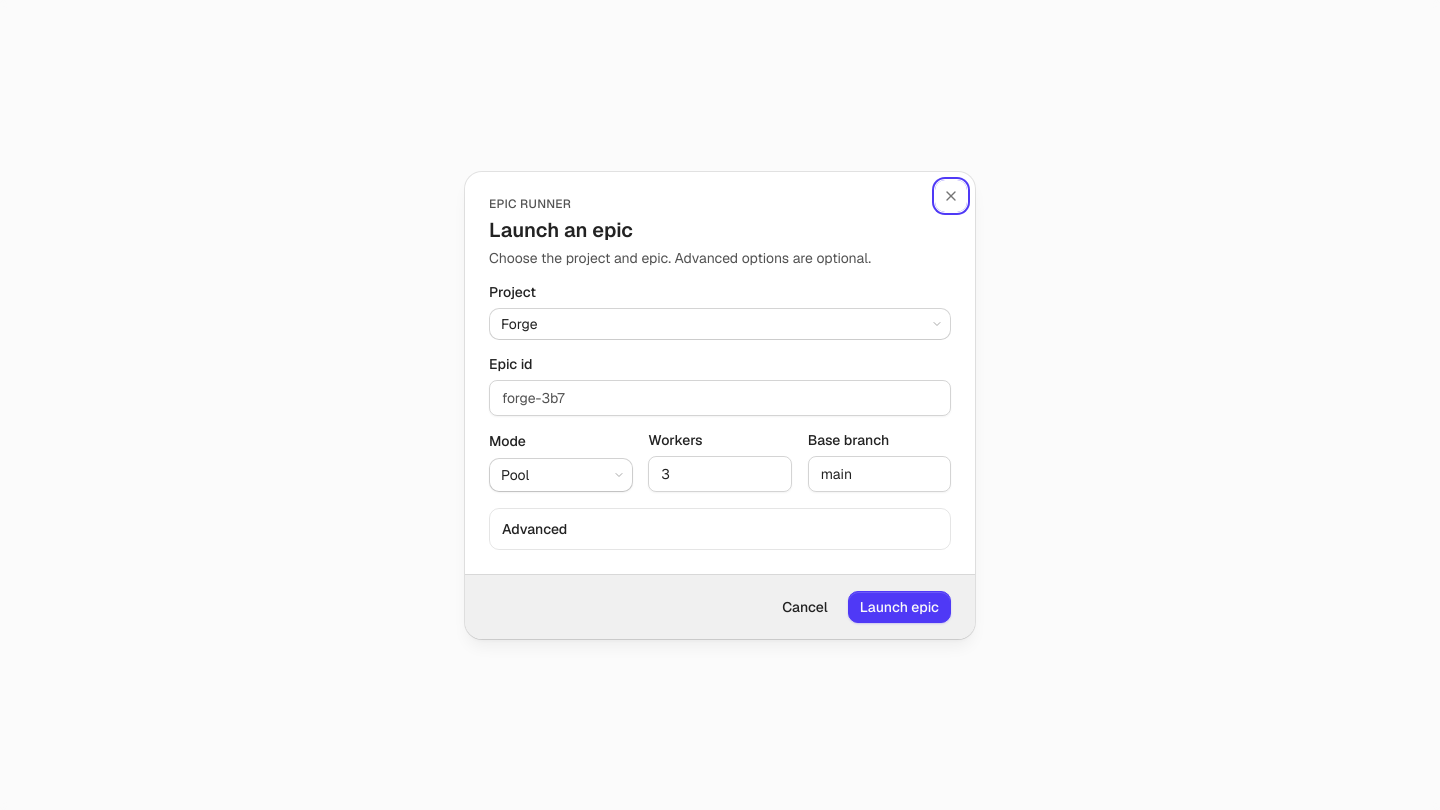
EpicLaunchDialog › marks invalid fields and reports launch failures
expect the dropdown named "Project" is shown: met, box [489,308,951,340]
Click the button "Launch epic" at (899, 606), box [848,590,951,622]
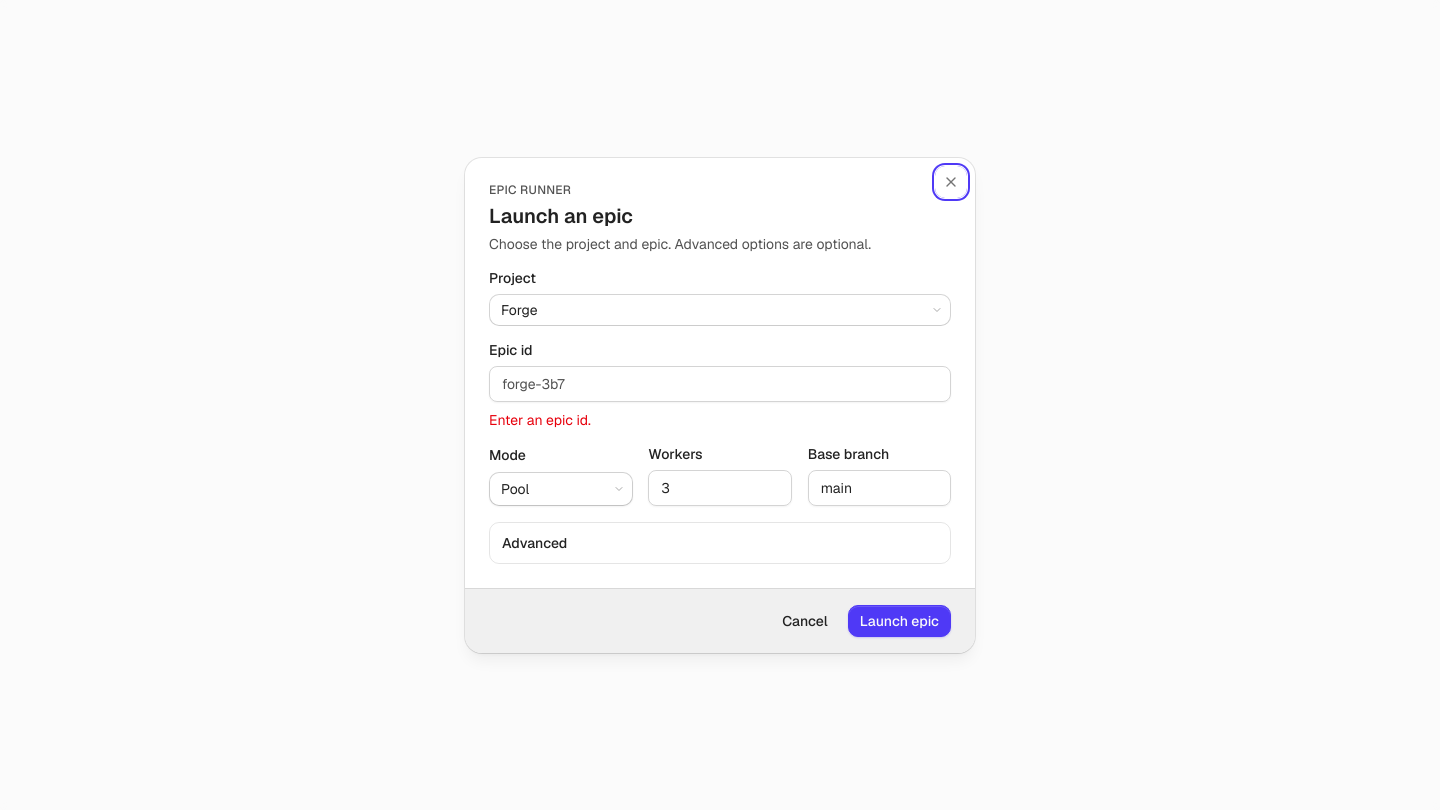
expect the field with placeholder "forge-3b7" is marked as invalid: met
Type "forge-epic" into the field with placeholder "forge-3b7" at (720, 384), box [489,366,951,402]
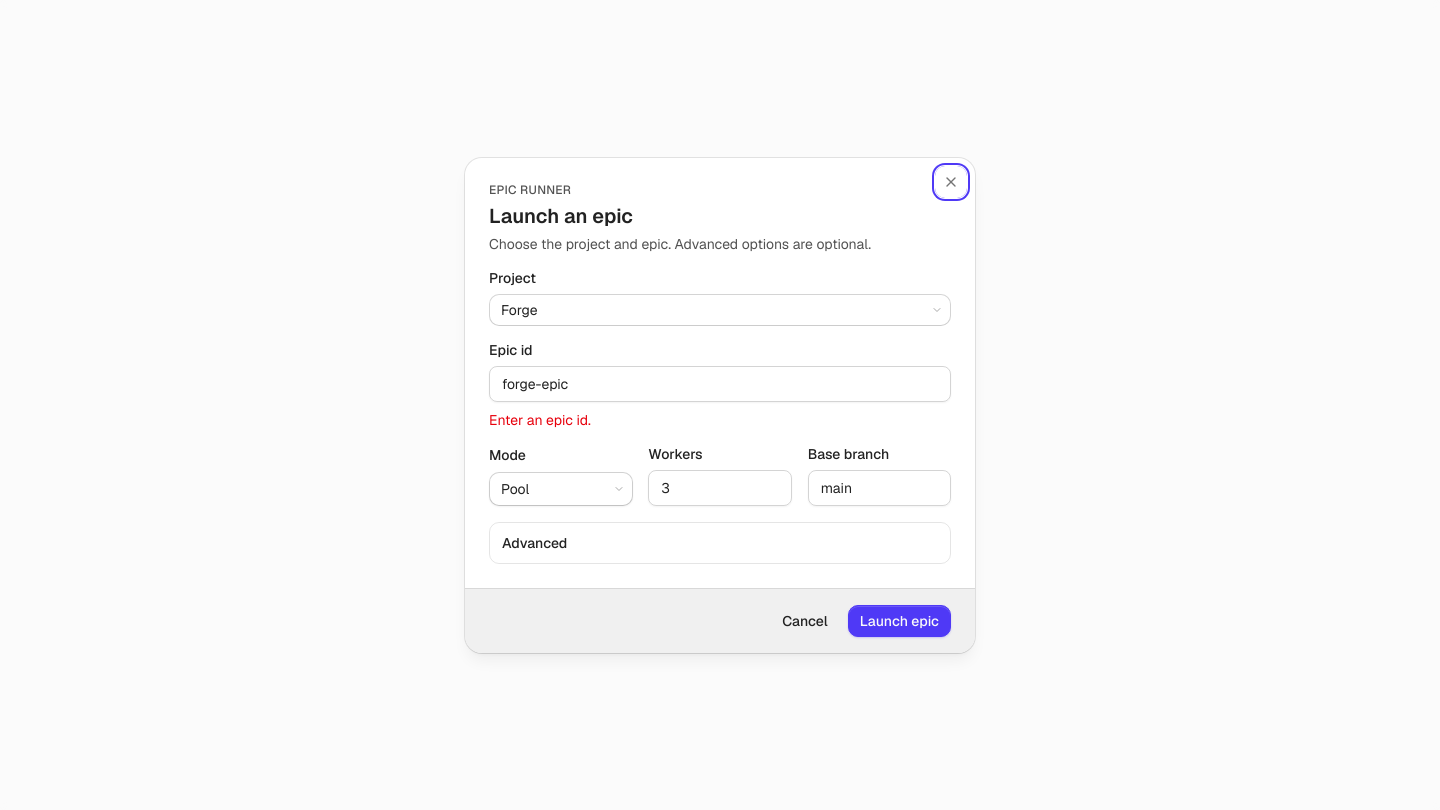
Click the button "Launch epic" at (899, 620), box [848,604,951,636]
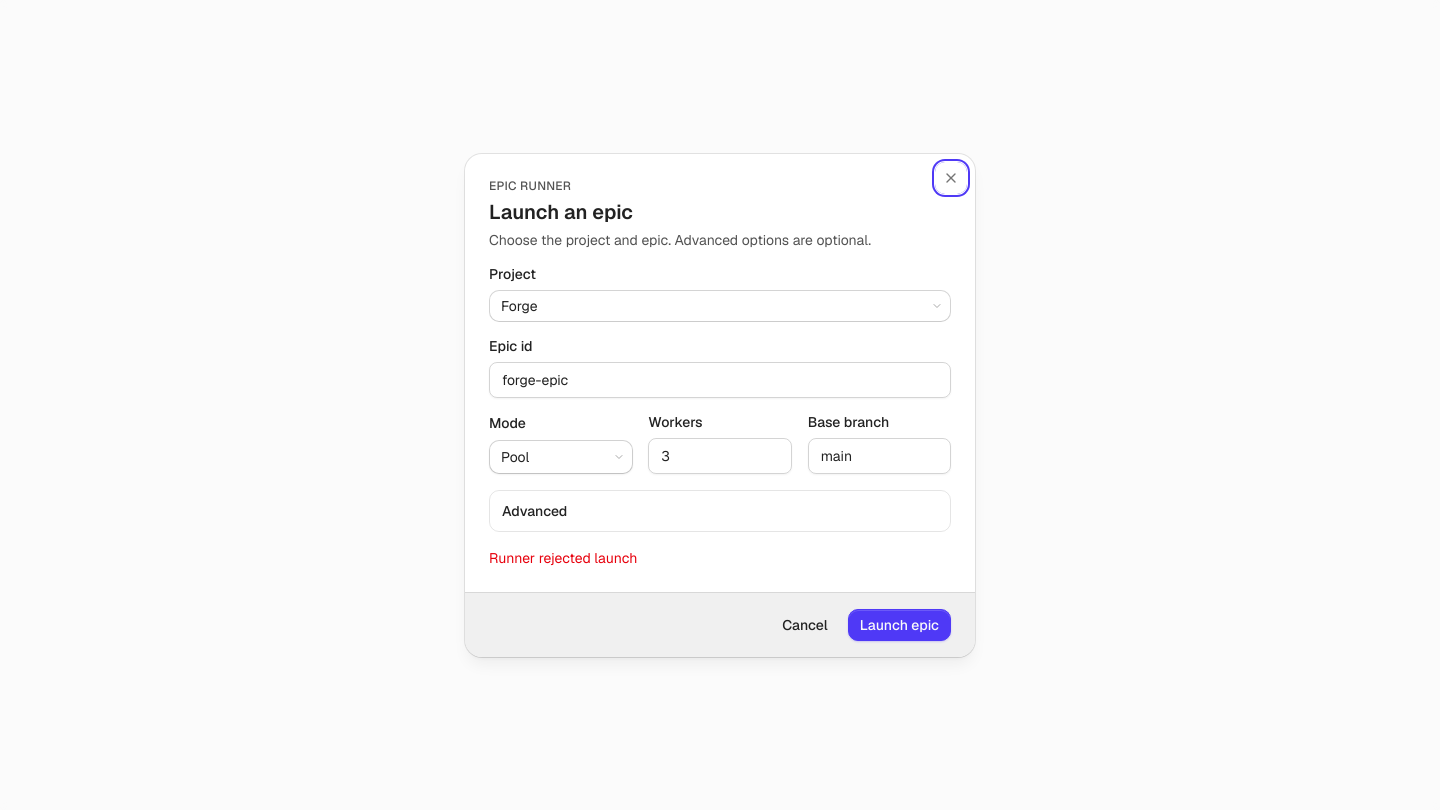
expect the message reads "Runner rejected launch": met, box [489,548,637,566]
